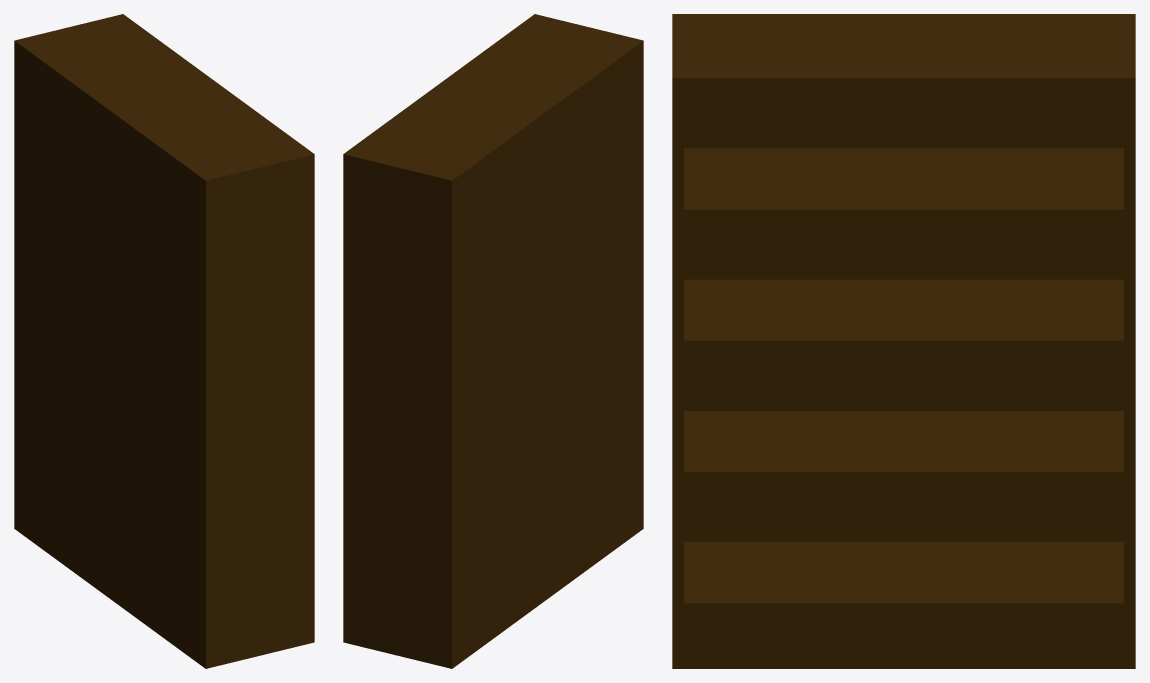
Rendered from OldBookshelf.fbx.
The picture shows the model from 3 angles, left to right: view 1: azimuth 30°, elevation 25°; view 2: azimuth 150°, elevation 25°; view 3: azimuth 270°, elevation 25°; orthographic projection. The views are drawn at different scales.
Visible parts, largest first — view 1: OldBookshelf; view 2: OldBookshelf; view 3: OldBookshelf.
Boxes of the visible parts, box(x1,y1,x2,y2) form: OldBookshelf: box(14, 14, 314, 668); OldBookshelf: box(343, 14, 643, 668); OldBookshelf: box(672, 14, 1135, 668).
Size of the model in its own units: 105 by 450 by 320.
